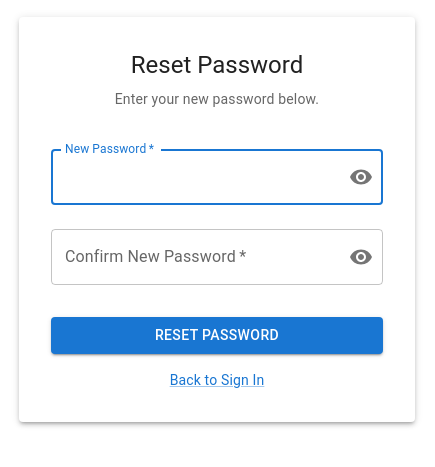
Test: ResetPassword component › enforces password policy on submit
# Type a weak password (under 10 chars)
Type "Weak1!" into the password field labelled "New Password *" at (192, 177), box [51, 149, 333, 205]
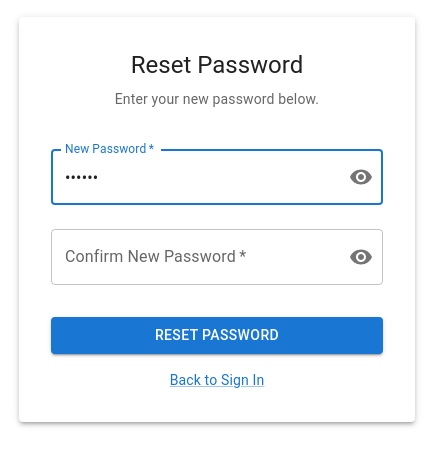
Type "Weak1!" into the password field labelled "Confirm New Password *" at (192, 257), box [51, 229, 333, 285]
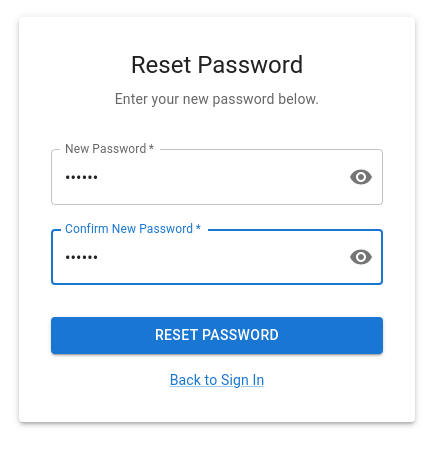
Click the button "Reset Password" at (217, 336), box [51, 317, 383, 354]
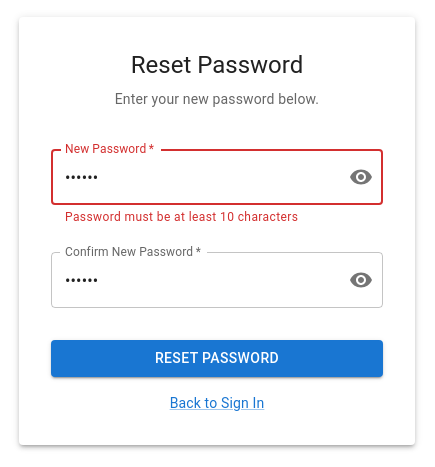
Expected: the text "Password must be at least 10 characters" is shown, [65, 210, 298, 224]
